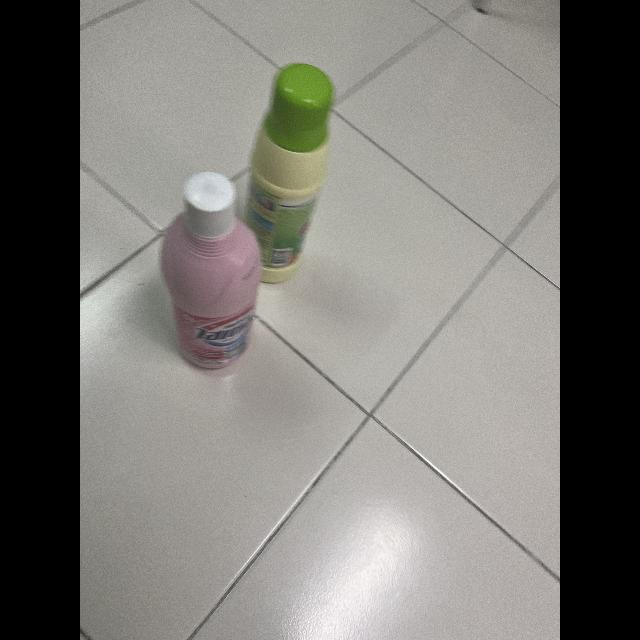chemical_plastic_bottle: (241, 57, 337, 280), (161, 164, 261, 376)
